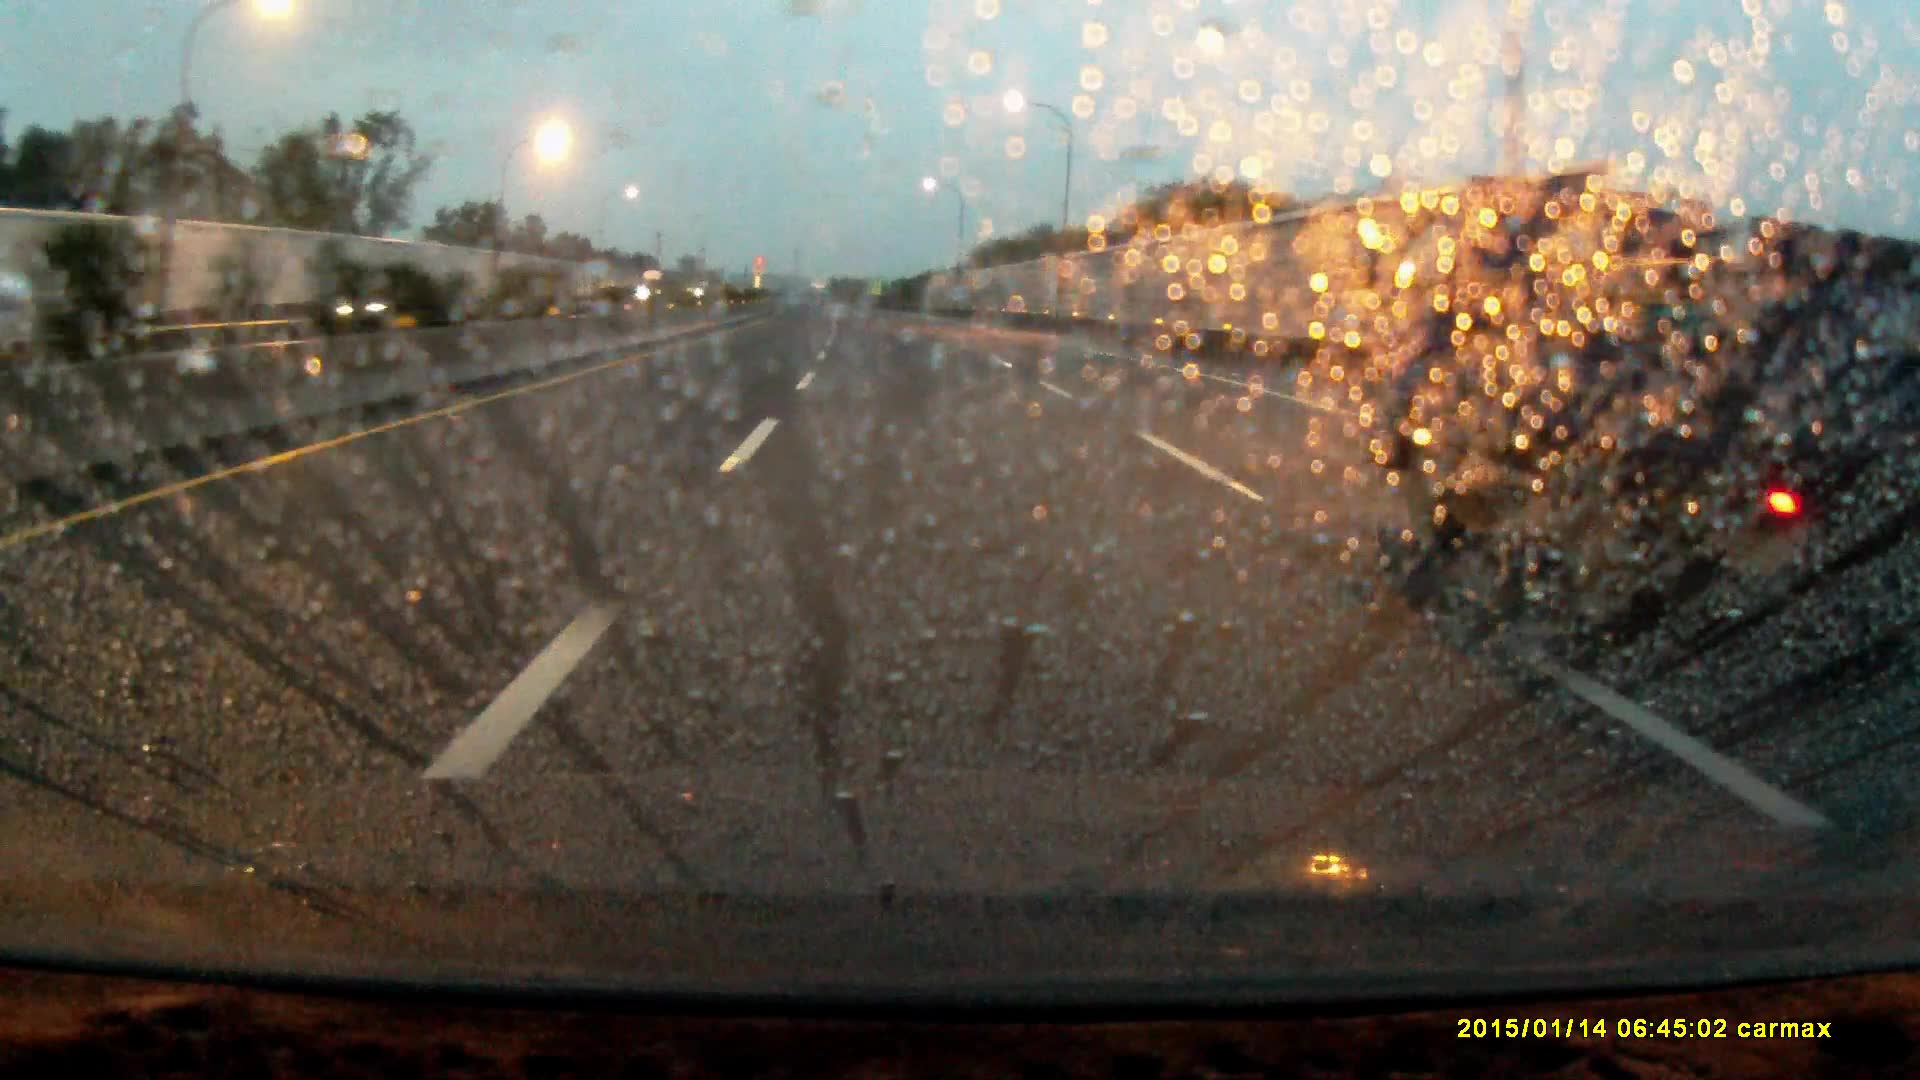vehicle: (1353, 179, 1920, 622), (338, 266, 444, 334), (644, 270, 669, 301)
